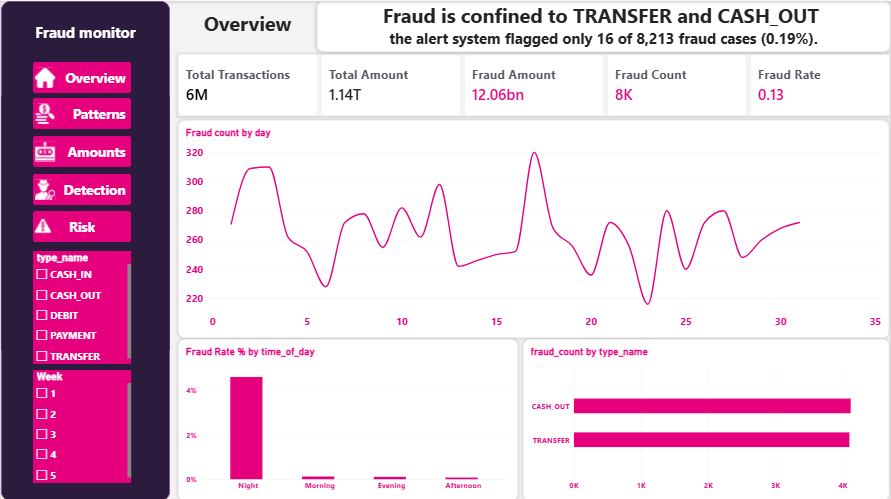

This screenshot's page, from the dashboard's own definition file:
{"tool":"powerbi","page":{"name":"Overview","canvas":[1920,1080],"ordinal":0},"visuals":[{"type":"cardVisual","fields":{"Data":["Sum(public vw_kpi_overview.total_transactions)","Sum(public vw_kpi_overview.total_amount)","Sum(public vw_kpi_overview.fraud_amount)","Sum(public vw_kpi_overview.fraud_count)","Sum(public vw_kpi_overview.fraud_rate_pct)"]},"box":[382.1,114.5,1537.9,133.9],"z":0},{"type":"lineChart","title":"Fraud count by day","fields":{"Category":["public vw_fraud_by_type_time.day_number Hierarchy.day_number","public vw_fraud_by_type_time.day_number Hierarchy.Week","public vw_fraud_by_type_time.day_number Hierarchy.hour_of_day"],"Y":["Sum(public vw_fraud_by_type_time.fraud_count)"]},"box":[382.3,257,1535.8,470.9],"z":1000},{"type":"clusteredBarChart","title":" fraud_count by type_name","fields":{"Category":["public vw_fraud_by_type_time.type_name"],"Y":["Sum(public vw_fraud_by_type_time.fraud_count)"]},"box":[1127.5,730.1,790.6,349.9],"z":2000},{"type":"columnChart","fields":{"Category":["public vw_fraud_by_type_time.time_of_day"],"Y":["_Measure.Fraud Rate %"]},"box":[382.3,730.1,734.4,349.9],"z":3000},{"type":"textbox","box":[682.6,0,1237.7,110.2],"z":4000},{"type":"shape","box":[0,0,365,1080],"z":5000},{"type":"actionButton","box":[69.7,291,211.8,67],"z":6000},{"type":"actionButton","box":[69.7,374.1,211.8,67],"z":7000},{"type":"actionButton","box":[69.7,454.6,211.8,67],"z":8000},{"type":"actionButton","box":[69.7,210.6,211.8,67],"z":9000},{"type":"actionButton","box":[69.7,132.8,211.8,67],"z":10000},{"type":"slicer","fields":{"Values":["public vw_fraud_by_type_time.type_name"]},"box":[69.7,539,211.8,244],"z":11000},{"type":"slicer","fields":{"Values":["public vw_fraud_by_type_time.Week"]},"box":[69.7,796.4,211.8,244],"z":12000},{"type":"textbox","box":[0,45.6,364.7,88.5],"z":13000},{"type":"textbox","box":[382.3,19.4,300.2,90.7],"z":14000}]}

Visuals, with their boxes in screenshot pixels (x1, y1, x2, y2), scaled from the page's 1920x1080 canvas onto the 891x499 screenshot:
cardVisual - Sum(public vw_kpi_overview.total_transactions) x Sum(public vw_kpi_overview.total_amount): <bbox>177, 53, 890, 115</bbox>
"Fraud count by day" lineChart: <bbox>177, 119, 890, 336</bbox>
" fraud_count by type_name" clusteredBarChart: <bbox>523, 337, 890, 498</bbox>
columnChart - public vw_fraud_by_type_time.time_of_day x _Measure.Fraud Rate %: <bbox>177, 337, 518, 498</bbox>
textbox: <bbox>317, 0, 890, 51</bbox>
shape: <bbox>0, 0, 169, 498</bbox>
actionButton: <bbox>32, 134, 131, 165</bbox>
actionButton: <bbox>32, 173, 131, 204</bbox>
actionButton: <bbox>32, 210, 131, 241</bbox>
actionButton: <bbox>32, 97, 131, 128</bbox>
actionButton: <bbox>32, 61, 131, 92</bbox>
slicer - public vw_fraud_by_type_time.type_name: <bbox>32, 249, 131, 362</bbox>
slicer - public vw_fraud_by_type_time.Week: <bbox>32, 368, 131, 481</bbox>
textbox: <bbox>0, 21, 169, 62</bbox>
textbox: <bbox>177, 9, 317, 51</bbox>
